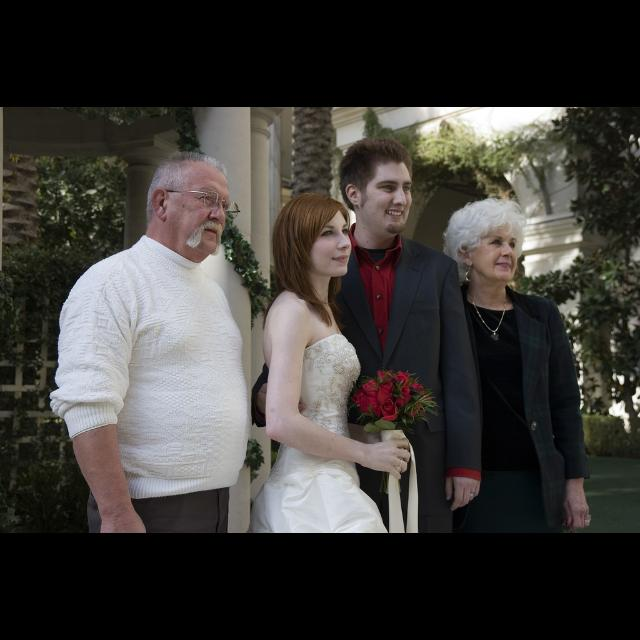Flower: (354, 371, 438, 423)
